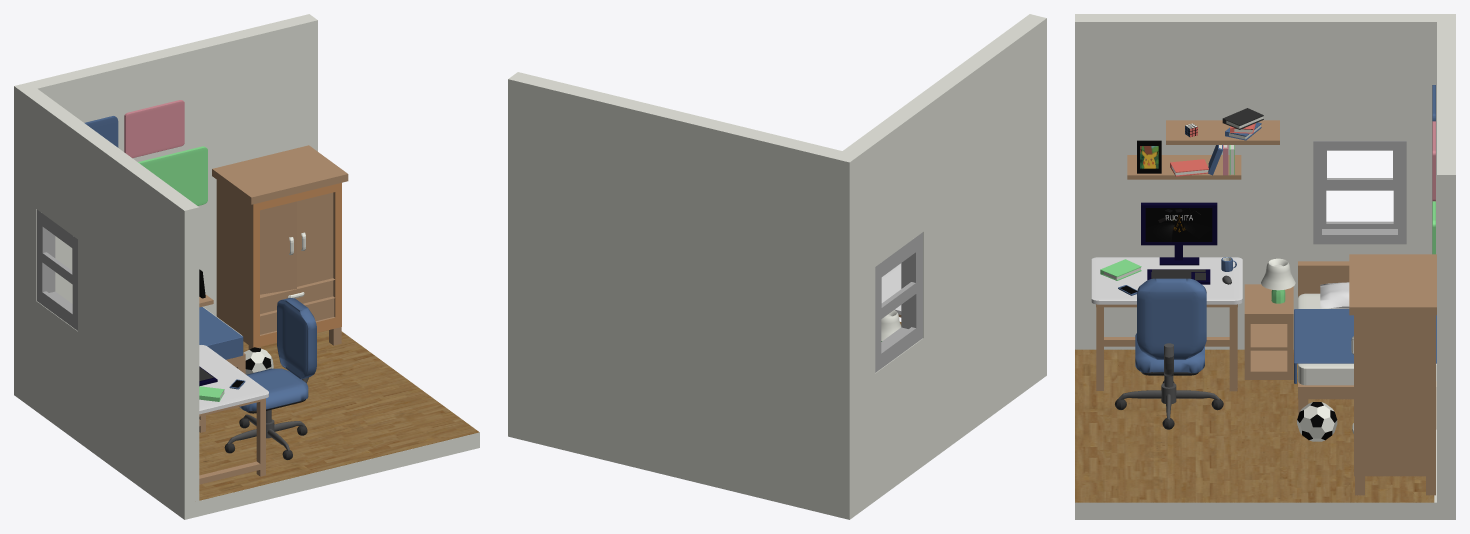
Rendered from pc-room11-02.glb.
3 renders of one model, left to right at view 1: azimuth 30°, elevation 25°; view 2: azimuth 150°, elevation 25°; view 3: azimuth 270°, elevation 25°, orthographic. The views are drawn at different scales.
Visible parts, largest first — view 1: Cube, Cupboard, Floor-Plane, Cube.002, Frame.002, Cube.042, Frame.003, Cube.019, Cube.043, pc-table, Blanket, Cylinder.007 (+2 smaller); view 2: Cube, Cube.002, Cube.019; view 3: Cube, Floor-Plane, Cupboard, Cube.002, Cube.042, Lamp-table, Monitor, Cube.019, Blanket, Bed, pc-table, Shelf.001 (+12 smaller).
Part boxes in pixels (bbox=[...]): Cube: bbox=[14, 14, 479, 519]; Cupboard: bbox=[212, 145, 348, 349]; Floor-Plane: bbox=[199, 330, 479, 500]; Cube.002: bbox=[36, 209, 77, 330]; Frame.002: bbox=[124, 100, 184, 158]; Cube.042: bbox=[277, 298, 316, 379]; Frame.003: bbox=[138, 146, 207, 205]; Cube.019: bbox=[199, 345, 268, 414]; Cube.043: bbox=[239, 368, 308, 411]; pc-table: bbox=[199, 398, 265, 484]; Blanket: bbox=[199, 307, 243, 359]; Cylinder.007: bbox=[227, 409, 305, 451]; Cube: bbox=[508, 14, 1046, 519]; Cube.002: bbox=[875, 232, 922, 372]; Cube.019: bbox=[881, 263, 901, 314]; Cube: bbox=[1075, 14, 1455, 519]; Floor-Plane: bbox=[1075, 349, 1434, 502]; Cupboard: bbox=[1349, 254, 1436, 495]; Cube.002: bbox=[1313, 141, 1406, 244]; Cube.042: bbox=[1137, 278, 1206, 359]; Lamp-table: bbox=[1244, 284, 1293, 379]; Monitor: bbox=[1141, 202, 1217, 265]; Cube.019: bbox=[1091, 257, 1242, 304]; Blanket: bbox=[1294, 309, 1436, 383]; Bed: bbox=[1298, 261, 1436, 429]; pc-table: bbox=[1096, 304, 1237, 391]; Shelf.001: bbox=[1166, 120, 1279, 144].
Bounding box in the file's own units: 5 × 5 × 5.
17 materials, 3 textured.
